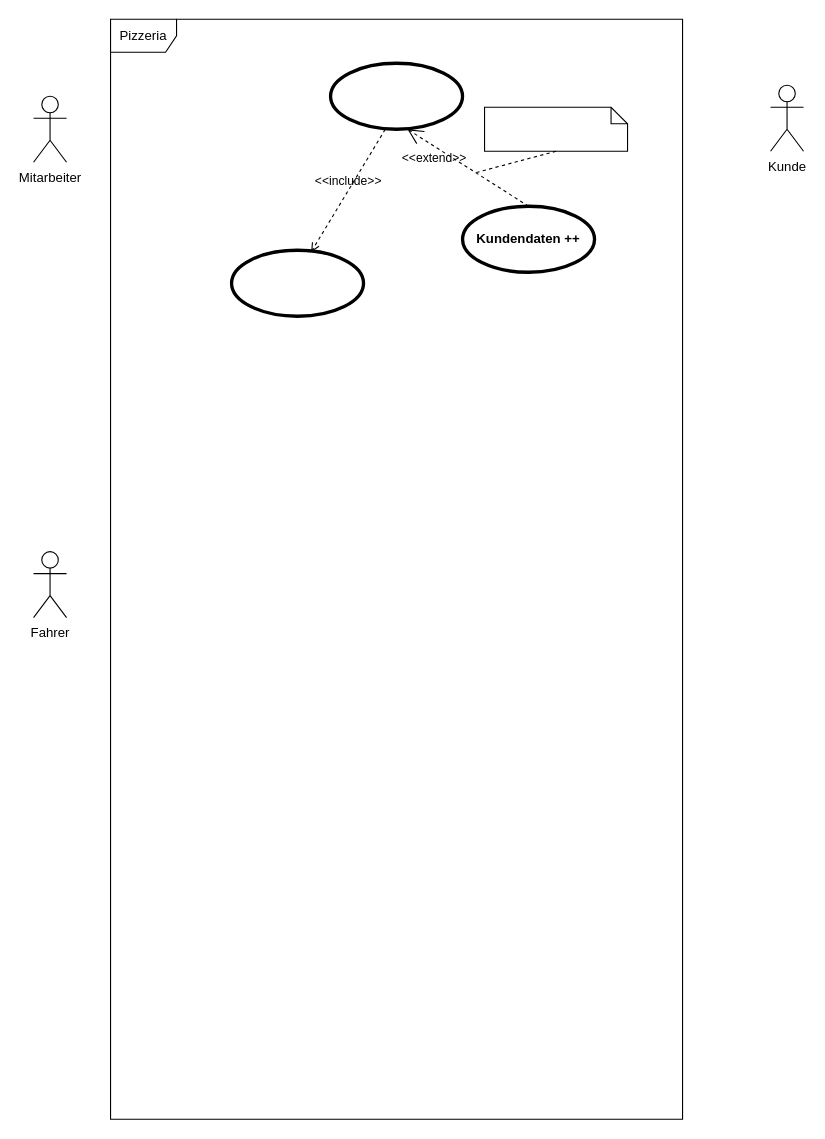
Image size: 825x1139. Some labels were removed from this diagram. Here are the shapes that lost their labels. From the top down, the centre of each, then its label:
At point 396,95: "Bestellanruf".
At point 555,128: "Falls Kunde neu".
At point 297,282: "Bestellung".
